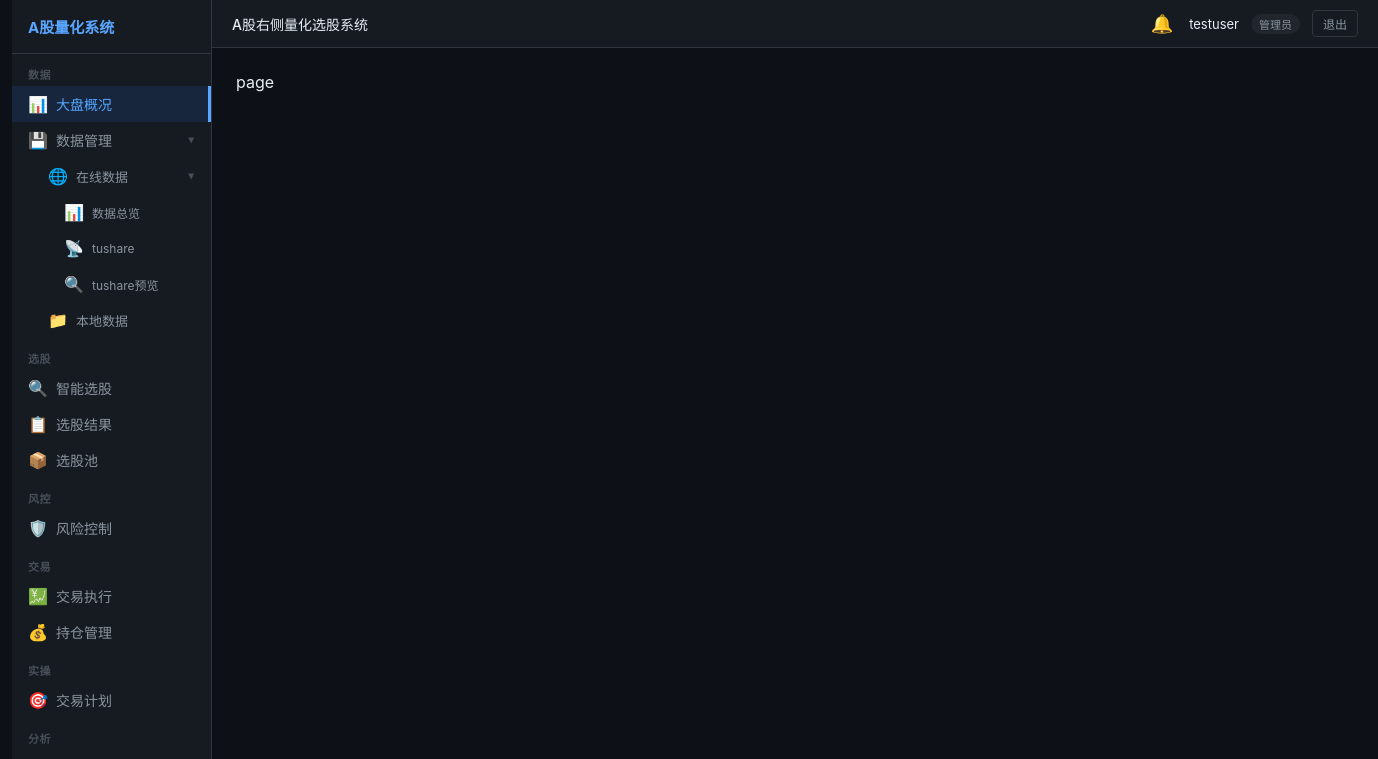
Scenario: MainLayout › 预警通知铃铛 › 有消息时显示预警列表
Click the button with class "notification-bell" at [1162, 24], box [1147, 10, 1177, 36]
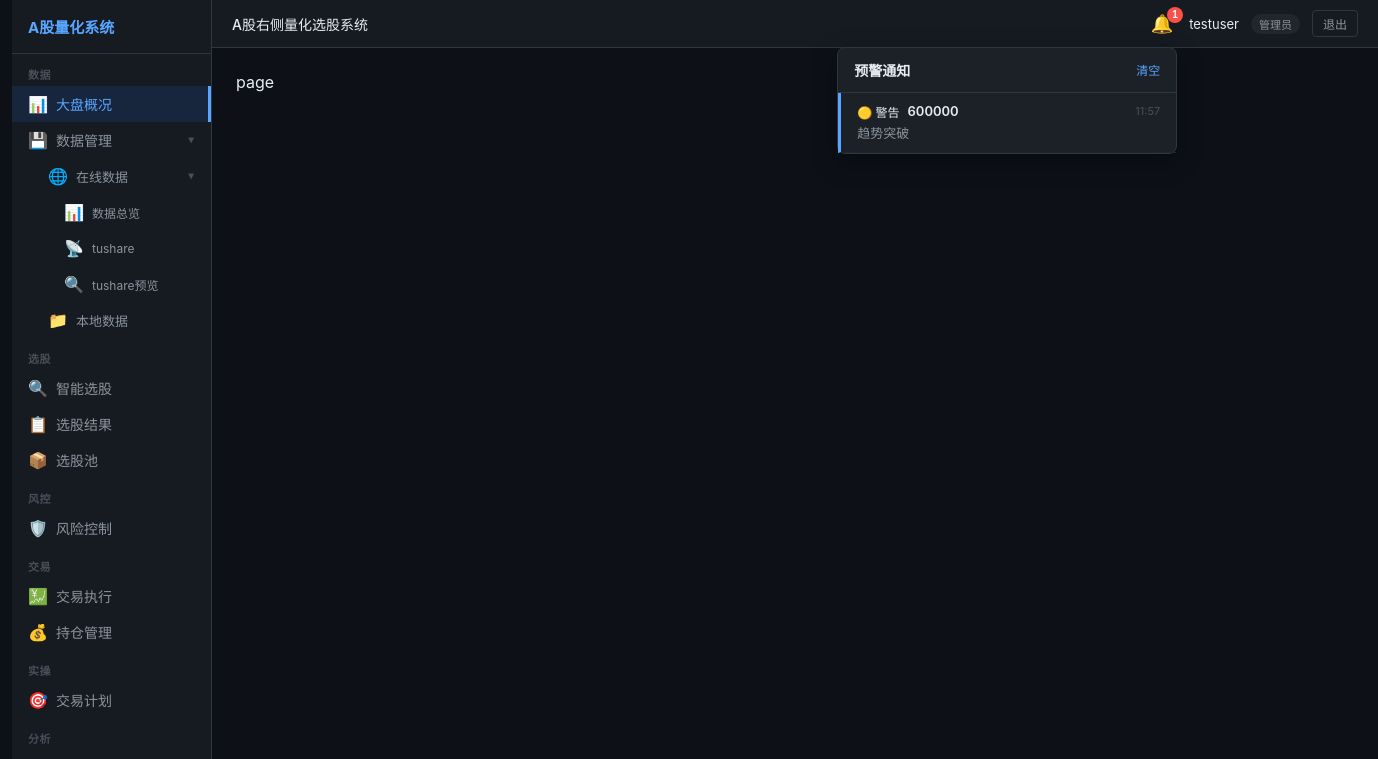
Expected: the number of elements with class "notification-item" is 1, [838, 92, 1176, 153]
Expected: the text with class "notification-symbol" reads "600000", [908, 103, 959, 119]
Expected: the text with class "notification-message" reads "趋势突破", [857, 124, 909, 140]
